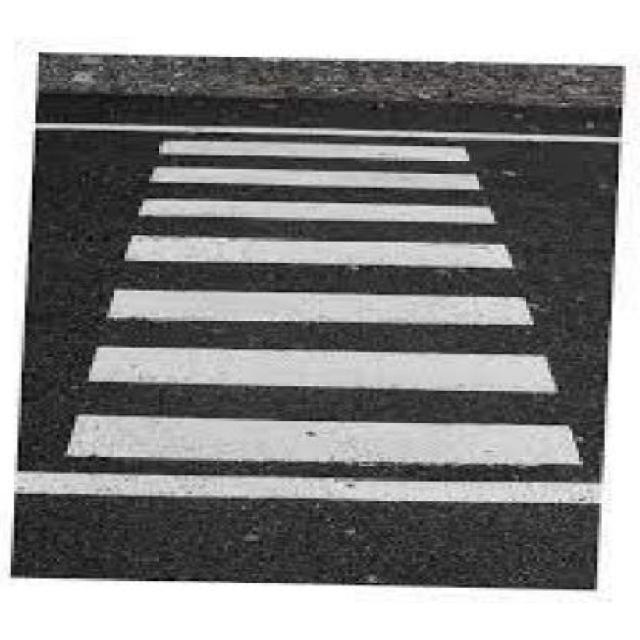Pedestrian crosswalk: (47, 137, 606, 471)
